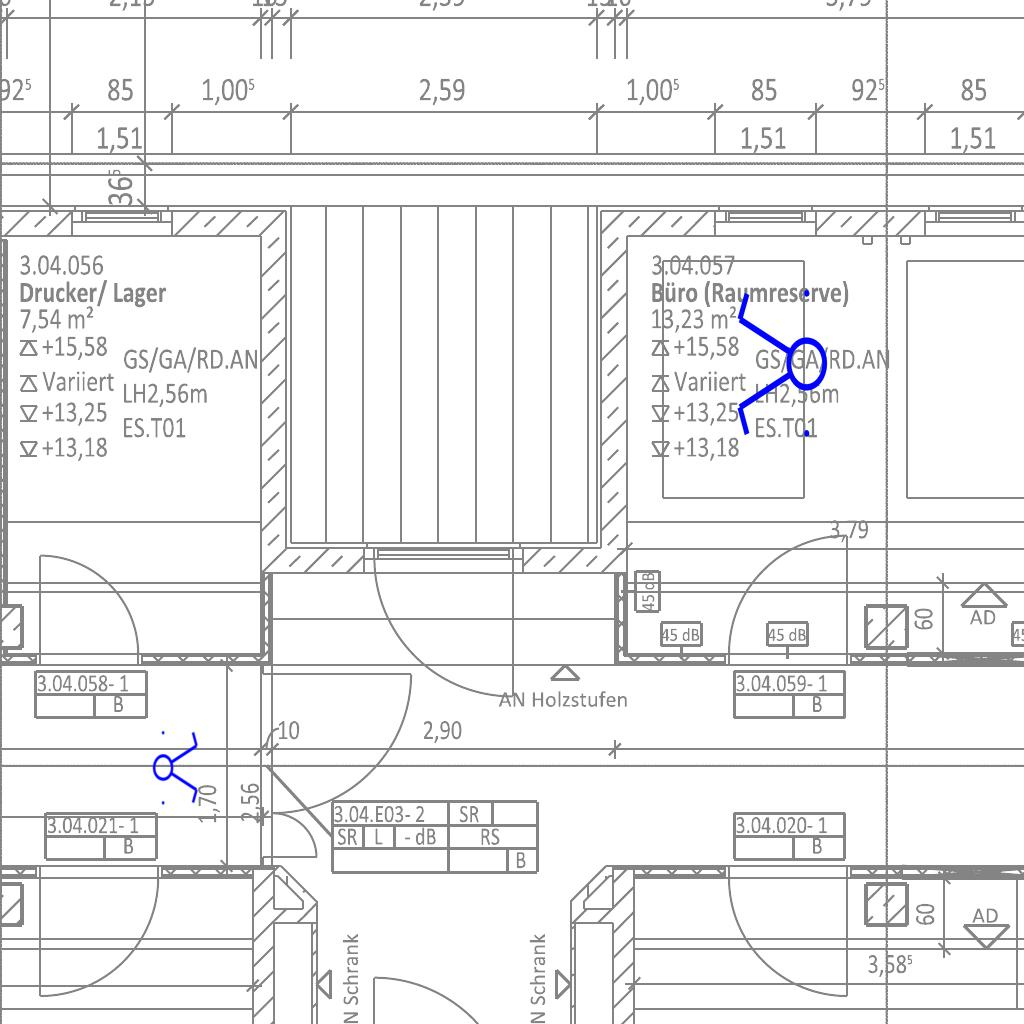Serienschalter: (733, 281, 829, 449), (152, 725, 200, 809)
